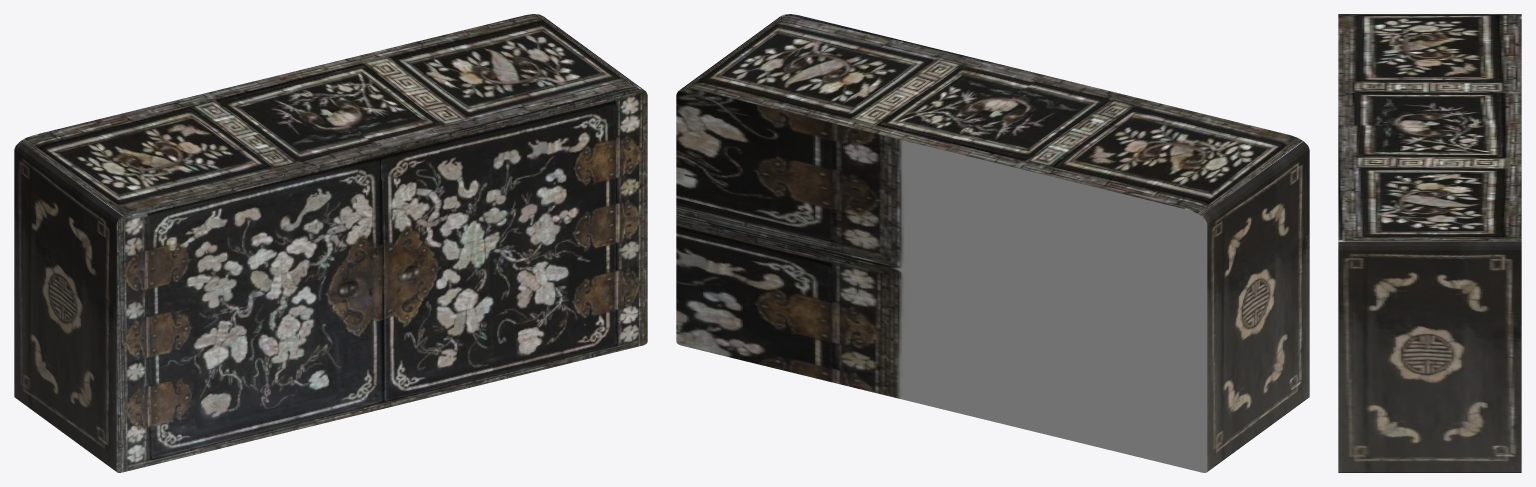
Rendered from secondCabinet.fbx.
3 views of the same model, side by side, from view 1: azimuth 30°, elevation 25°; view 2: azimuth 150°, elevation 25°; view 3: azimuth 270°, elevation 25° (orthographic). The views are drawn at different scales.
Parts seen in each view (by area): view 1: Cube.002; view 2: Cube.002; view 3: Cube.002.
Boxes of the visible parts, bbox=[...] form: Cube.002: bbox=[14, 14, 647, 472]; Cube.002: bbox=[676, 14, 1309, 472]; Cube.002: bbox=[1338, 14, 1521, 472].
Size of the model in its own units: 300 by 140 by 100.
2 materials, 2 textured.
